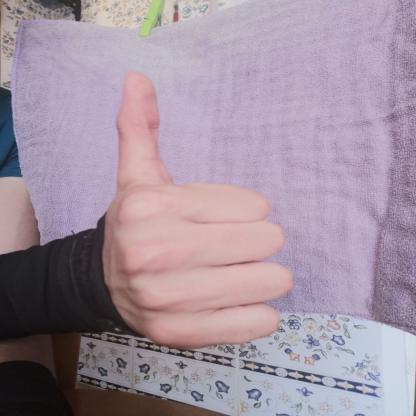ALIF: (72, 58, 320, 368)
